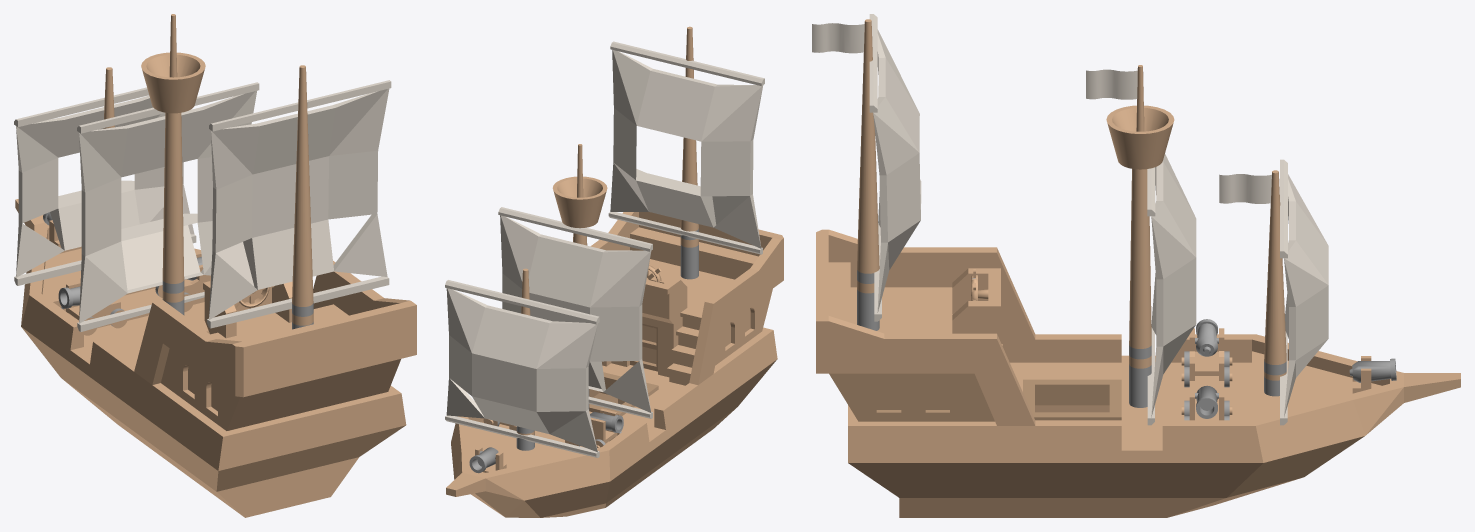
Rendered from navire_pirate_clair.glb.
3 views of the same model, side by side, from view 1: azimuth 30°, elevation 25°; view 2: azimuth 150°, elevation 25°; view 3: azimuth 270°, elevation 25° (orthographic). The views are drawn at different scales.
Parts seen in each view (by area): view 1: navire_pirate_clair_assimp; view 2: navire_pirate_clair_assimp; view 3: navire_pirate_clair_assimp.
Part boxes in pixels (x1=…): navire_pirate_clair_assimp: x1=14, y1=14, x2=416, y2=517; navire_pirate_clair_assimp: x1=445, y1=26, x2=783, y2=517; navire_pirate_clair_assimp: x1=812, y1=14, x2=1460, y2=517.
Bounding box in the file's own units: 28.5 × 65.46 × 80.98.
